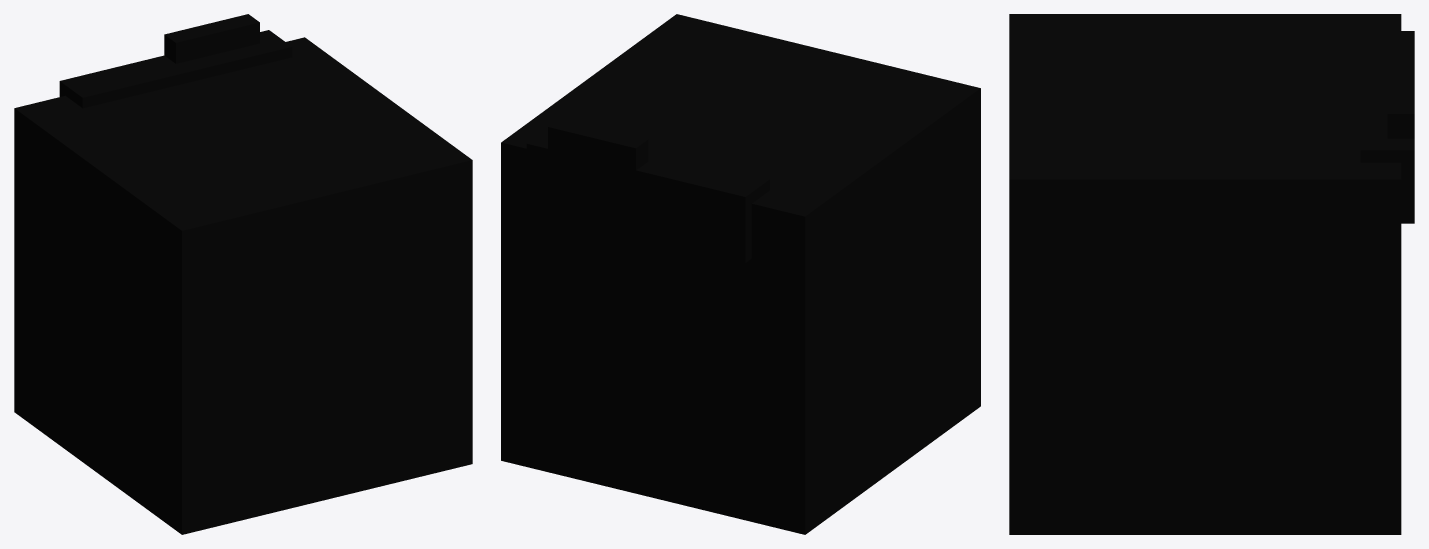
Rendered from hair-0006.gltf.
The picture shows the model from 3 angles, left to right: view 1: azimuth 30°, elevation 25°; view 2: azimuth 150°, elevation 25°; view 3: azimuth 270°, elevation 25°; orthographic projection. The views are drawn at different scales.
Visible parts, largest first — view 1: hair-0006-extra-geo (×3); view 2: hair-0006-extra-geo (×3); view 3: hair-0006-extra-geo (×3).
Part boxes in pixels (box(x1,y1,x2,y2)): hair-0006-extra-geo (×3): box(14, 14, 472, 534); hair-0006-extra-geo (×3): box(501, 14, 980, 534); hair-0006-extra-geo (×3): box(1009, 14, 1414, 534).
Bounding box in the file's own units: 0.4531 × 0.5 × 0.4688.
Materials: 1 (1 with a texture image).
